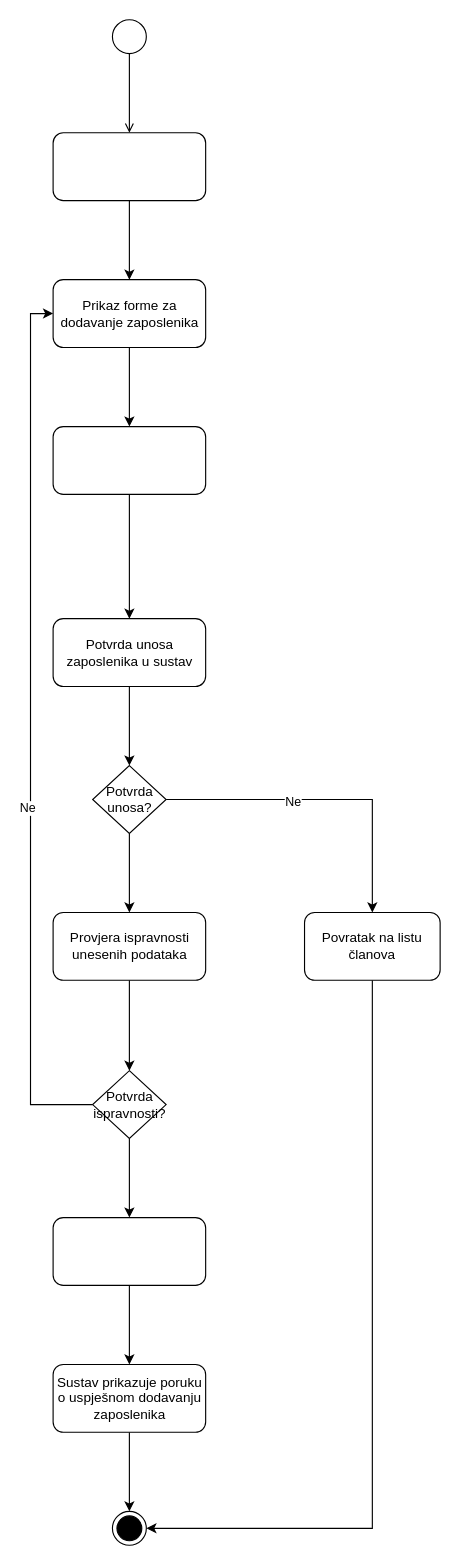
Some shapes in this 460 by 1565 pixel diagram are drawn without their labels. The box of each missing label's shape, as (x1, y1, x2, y2) in pixels:
Administrator odabire opciju dodavanje novog zaposlenika: (52, 132, 206, 201)
Spremanje zaposlenika u bazu podataka: (52, 1216, 206, 1285)
Unos podataka o zaposleniku: (52, 425, 206, 494)
